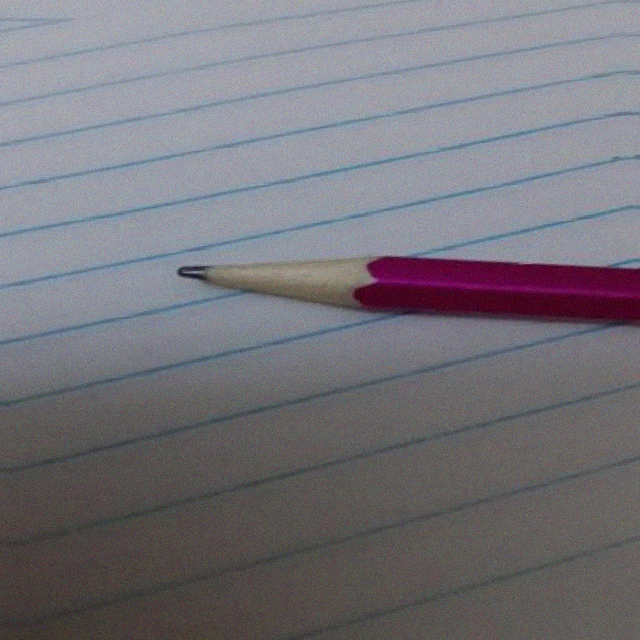pencil: (177, 236, 396, 314)
